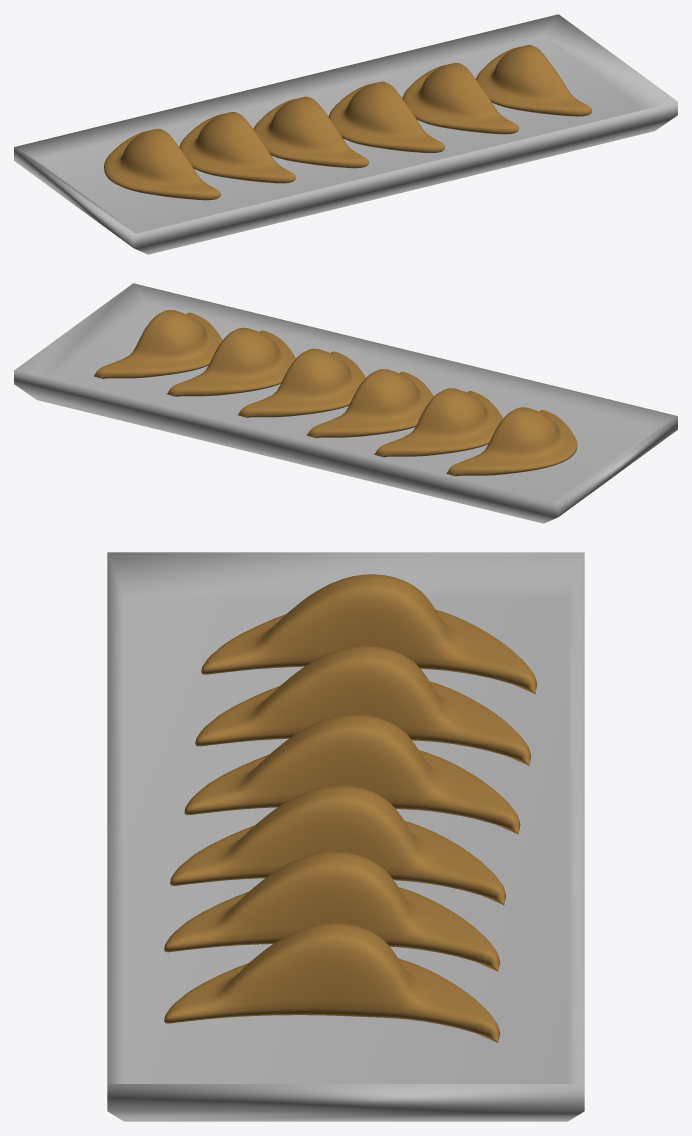
The model's file is gyoza.glb.
3 renders of one model, top to bottom at view 1: azimuth 30°, elevation 25°; view 2: azimuth 150°, elevation 25°; view 3: azimuth 270°, elevation 25°, orthographic. The views are drawn at different scales.
Parts seen in each view (by area): view 1: GYOZA_HIGH; view 2: GYOZA_HIGH; view 3: GYOZA_HIGH.
Part boxes in pixels (bbox=[...]): GYOZA_HIGH: bbox=[14, 14, 677, 254]; GYOZA_HIGH: bbox=[14, 283, 677, 523]; GYOZA_HIGH: bbox=[107, 552, 584, 1121].
Bounding box in the file's own units: 1.86 × 0.1991 × 0.7072.
